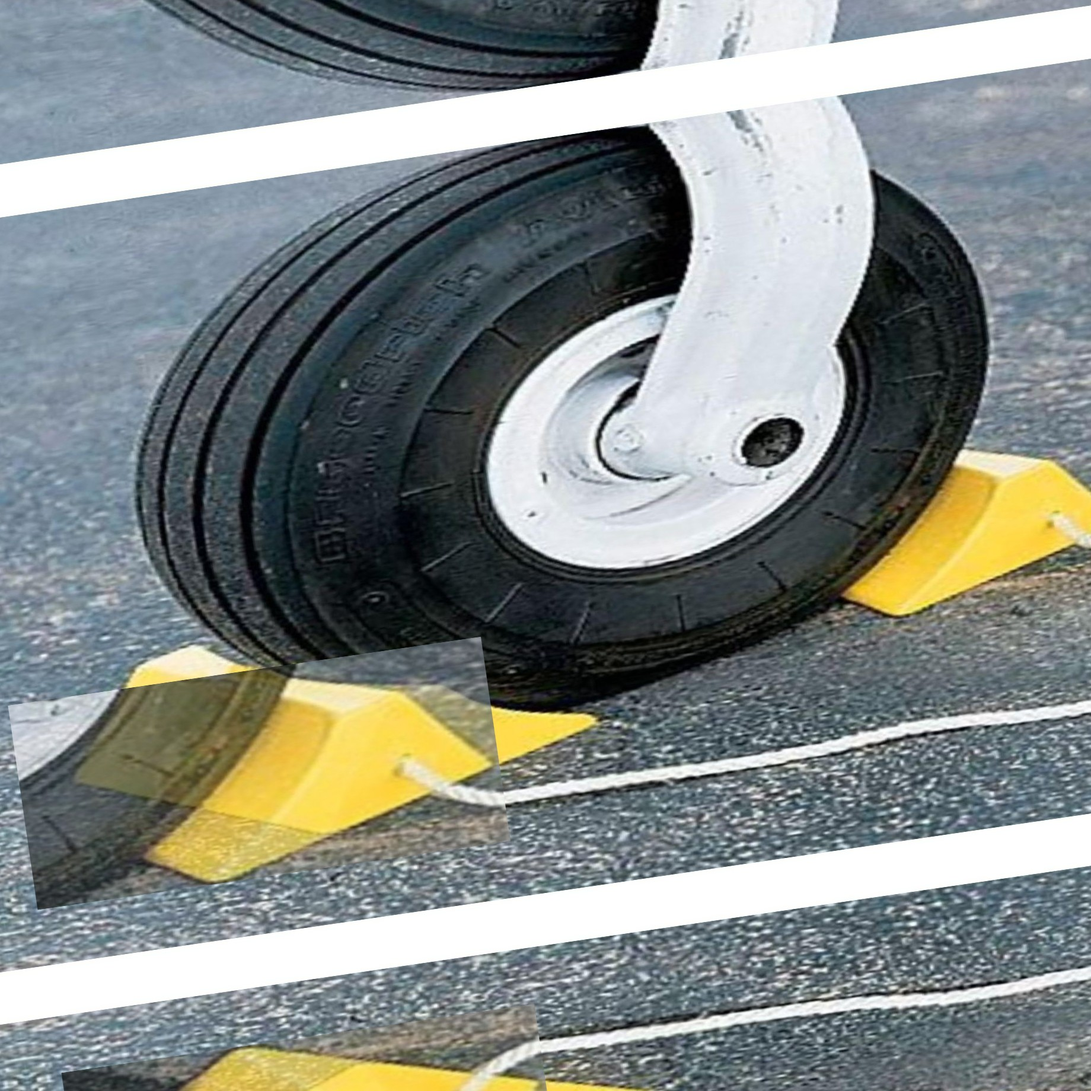chock: (53, 590, 606, 869), (8, 637, 511, 910), (731, 416, 1091, 639), (61, 1004, 564, 1091)
wheel: (89, 78, 1044, 771)
